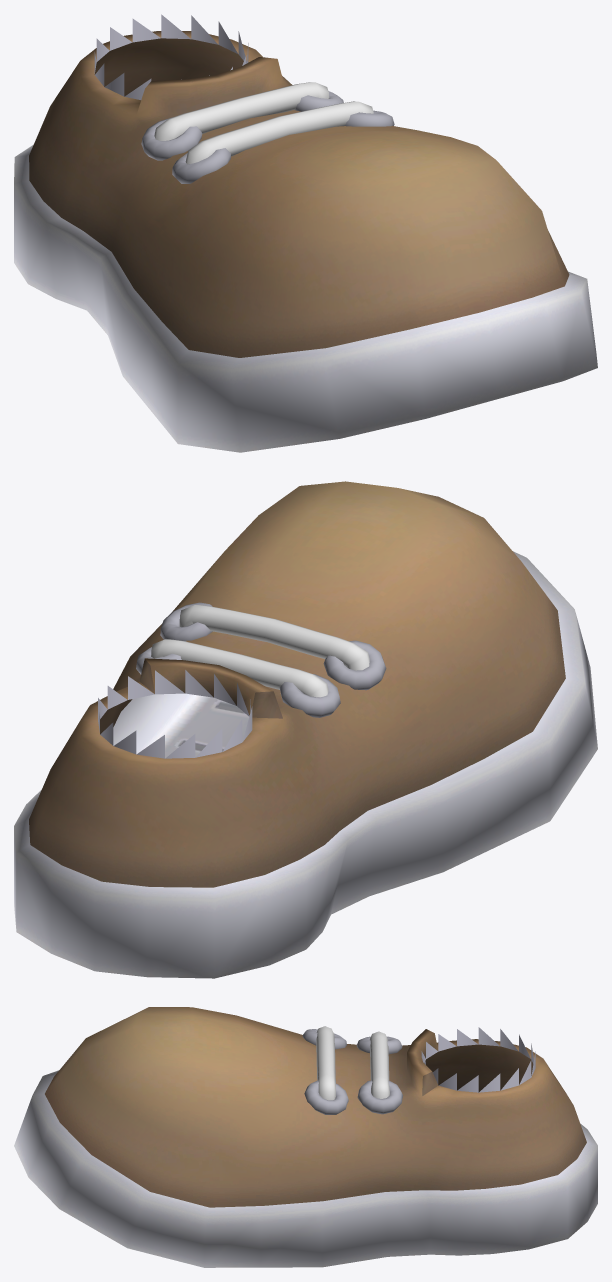
The model's file is crazydave_pie_izq.obj.
The picture shows the model from 3 angles, top to bottom: view 1: azimuth 30°, elevation 25°; view 2: azimuth 150°, elevation 25°; view 3: azimuth 270°, elevation 25°; orthographic projection. The views are drawn at different scales.
Parts seen in each view (by area): view 1: crazydave_pie_izq; view 2: crazydave_pie_izq; view 3: crazydave_pie_izq.
Part boxes in pixels (left/top/right/bottom): crazydave_pie_izq: left=14, top=14, right=597, bottom=452; crazydave_pie_izq: left=14, top=481, right=597, bottom=978; crazydave_pie_izq: left=14, top=1007, right=597, bottom=1267.
Size of the model in its own units: 0.3437 by 0.2184 by 0.6245.
